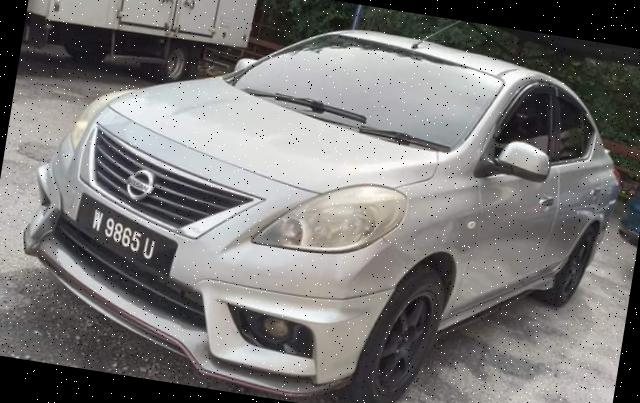License_Plate: (66, 192, 176, 270)
car: (5, 1, 640, 403)
